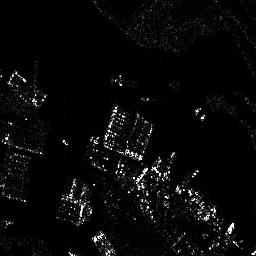ship: (110, 76, 151, 101)
